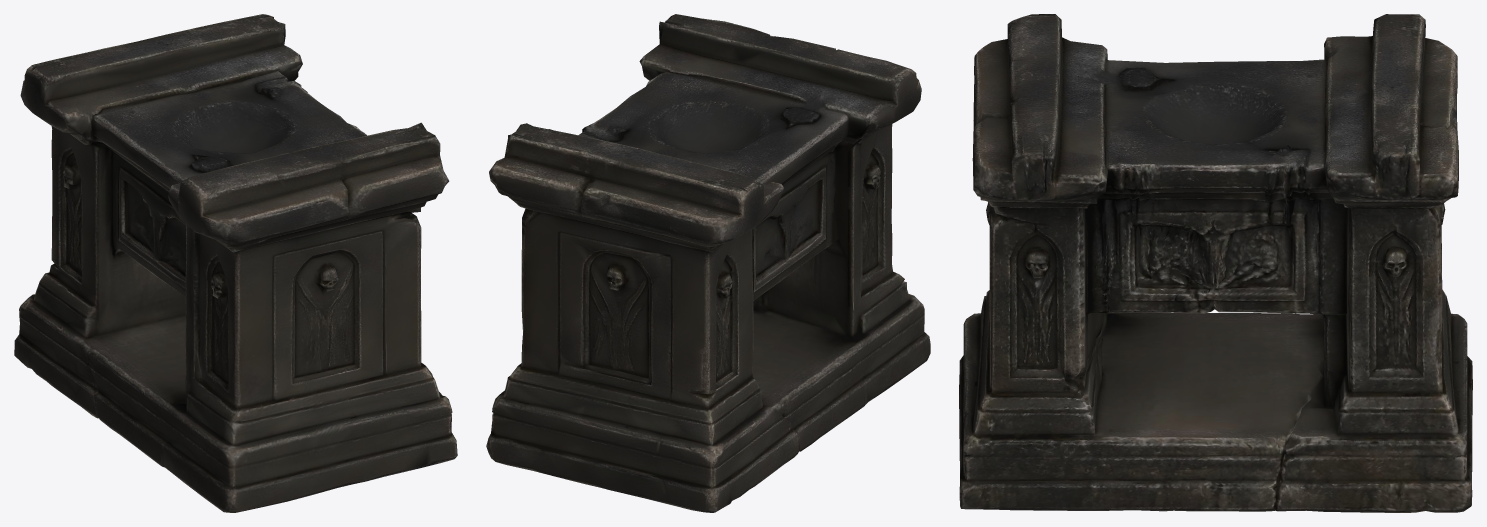
File: ruined-altar.glb
3 views of the same model, side by side, from view 1: azimuth 30°, elevation 25°; view 2: azimuth 150°, elevation 25°; view 3: azimuth 270°, elevation 25° (orthographic). The views are drawn at different scales.
Visible parts, largest first — view 1: tripo_node_e565b36a-4cfd-4dca-bcc9-50b8152bda29; view 2: tripo_node_e565b36a-4cfd-4dca-bcc9-50b8152bda29; view 3: tripo_node_e565b36a-4cfd-4dca-bcc9-50b8152bda29.
Part boxes in pixels (x1,y1,x2,y2): tripo_node_e565b36a-4cfd-4dca-bcc9-50b8152bda29: [14, 14, 457, 512]; tripo_node_e565b36a-4cfd-4dca-bcc9-50b8152bda29: [486, 14, 930, 512]; tripo_node_e565b36a-4cfd-4dca-bcc9-50b8152bda29: [959, 14, 1472, 512].
Bounding box in the file's own units: 0.6465 × 0.7853 × 1.
1 material, 1 textured.
